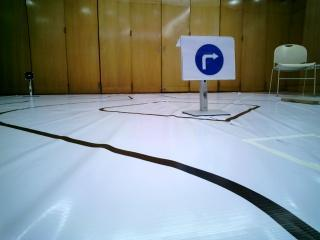right: (182, 39, 236, 80)
